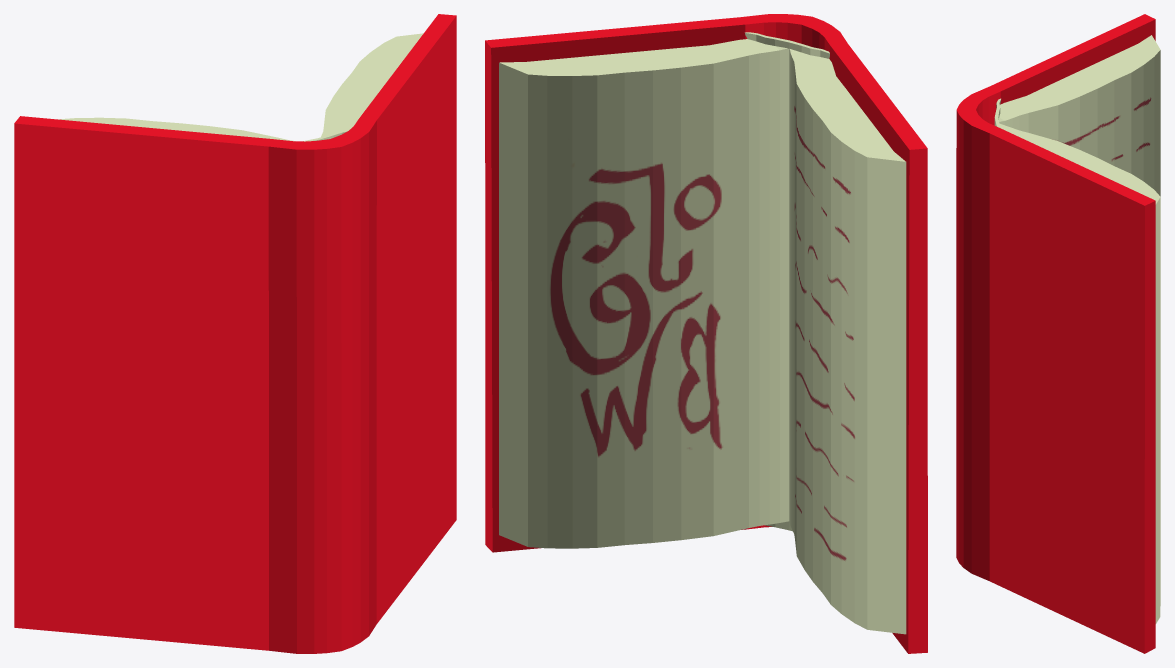
File: BookObject.fbx
3 renders of one model, left to right at view 1: azimuth 30°, elevation 25°; view 2: azimuth 150°, elevation 25°; view 3: azimuth 270°, elevation 25°, orthographic. The views are drawn at different scales.
Parts seen in each view (by area): view 1: SpellBook; view 2: SpellBook; view 3: SpellBook.
Boxes of the visible parts, box(x1,y1,x2,y2) form: SpellBook: box(14, 14, 456, 653); SpellBook: box(485, 14, 927, 653); SpellBook: box(956, 14, 1160, 653).
Bounding box in the file's own units: 177 × 193 × 79.76.
